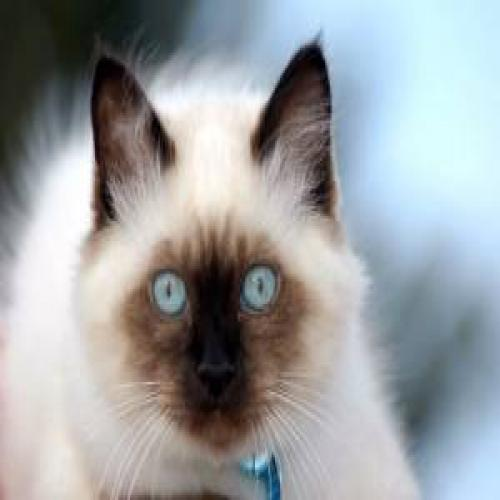ragdoll: (73, 37, 354, 462)
